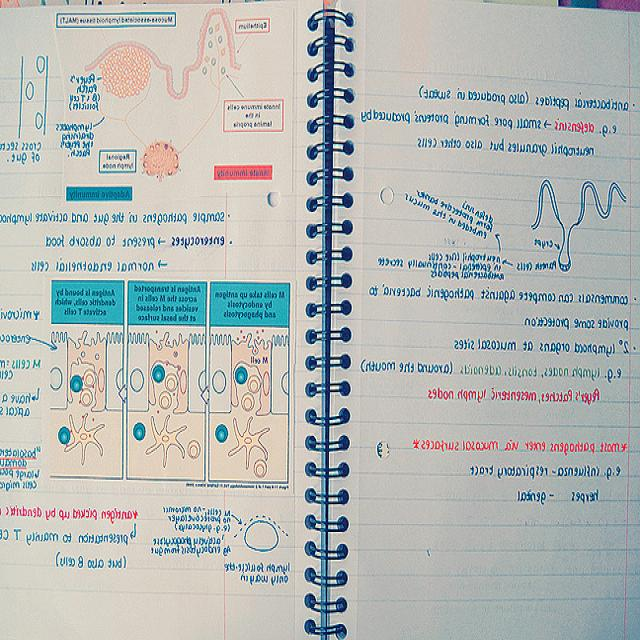paper: (0, 6, 637, 640)
